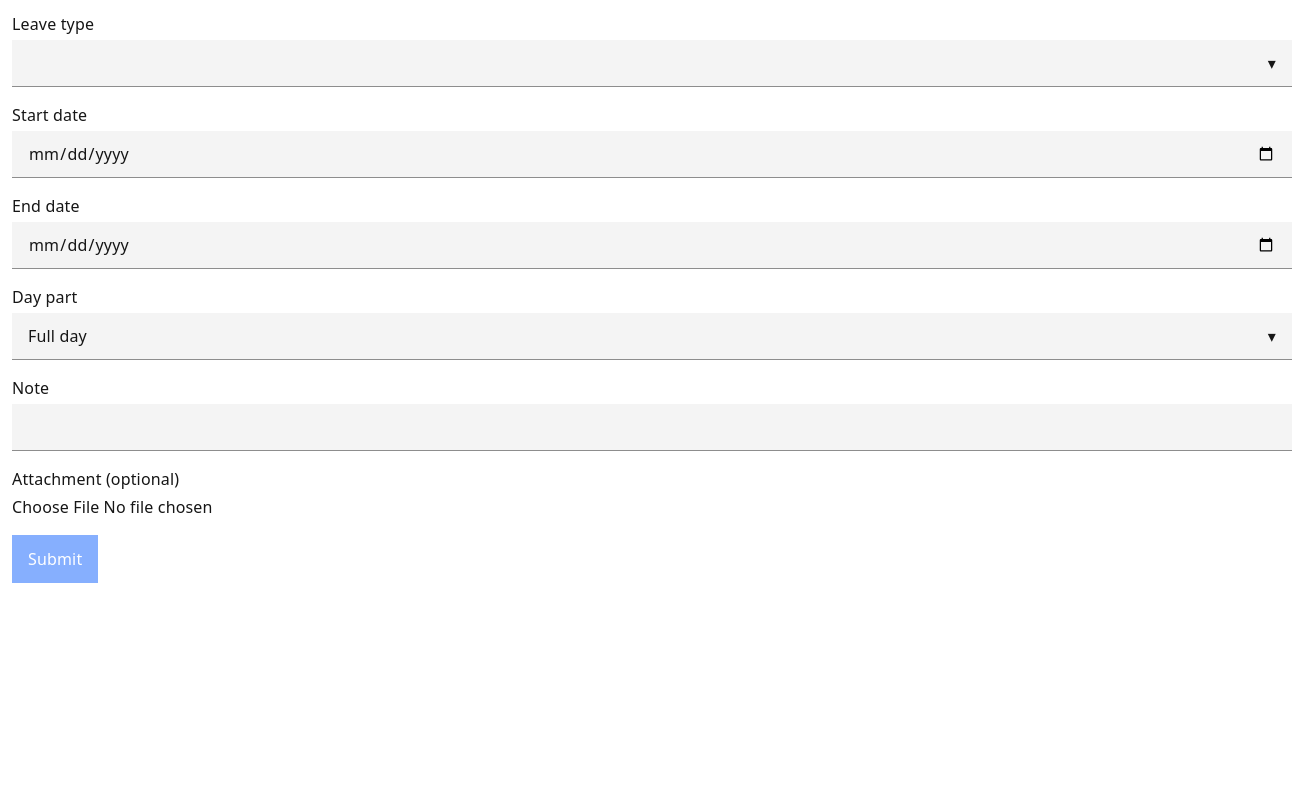
Test: LeaveRequestForm › selecting a leave type shows its current balance
Check: the text "Current balance:" is not shown
Click the dropdown named "Leave type". click: (1272, 63)
box: [12,40,1292,87]
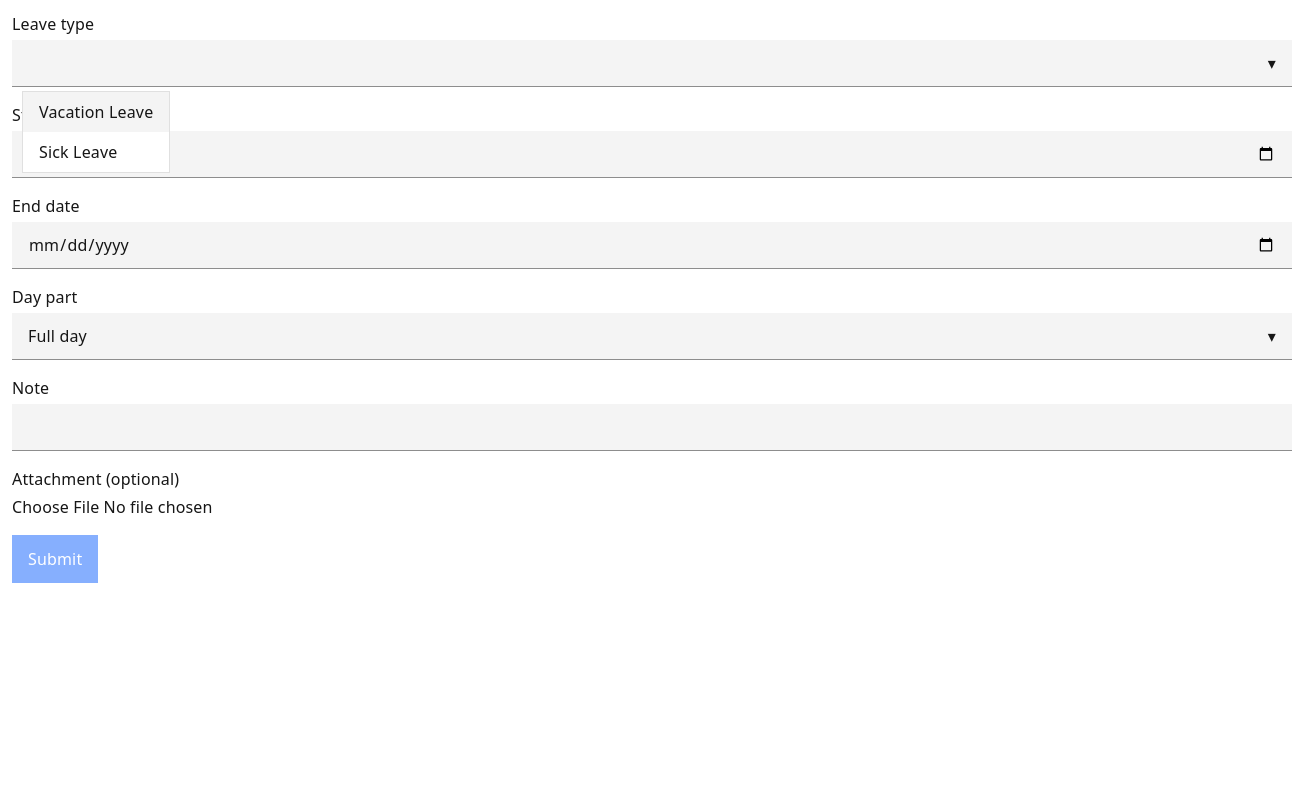
Click the option "Sick Leave". click: (78, 152)
box: [39,141,117,163]
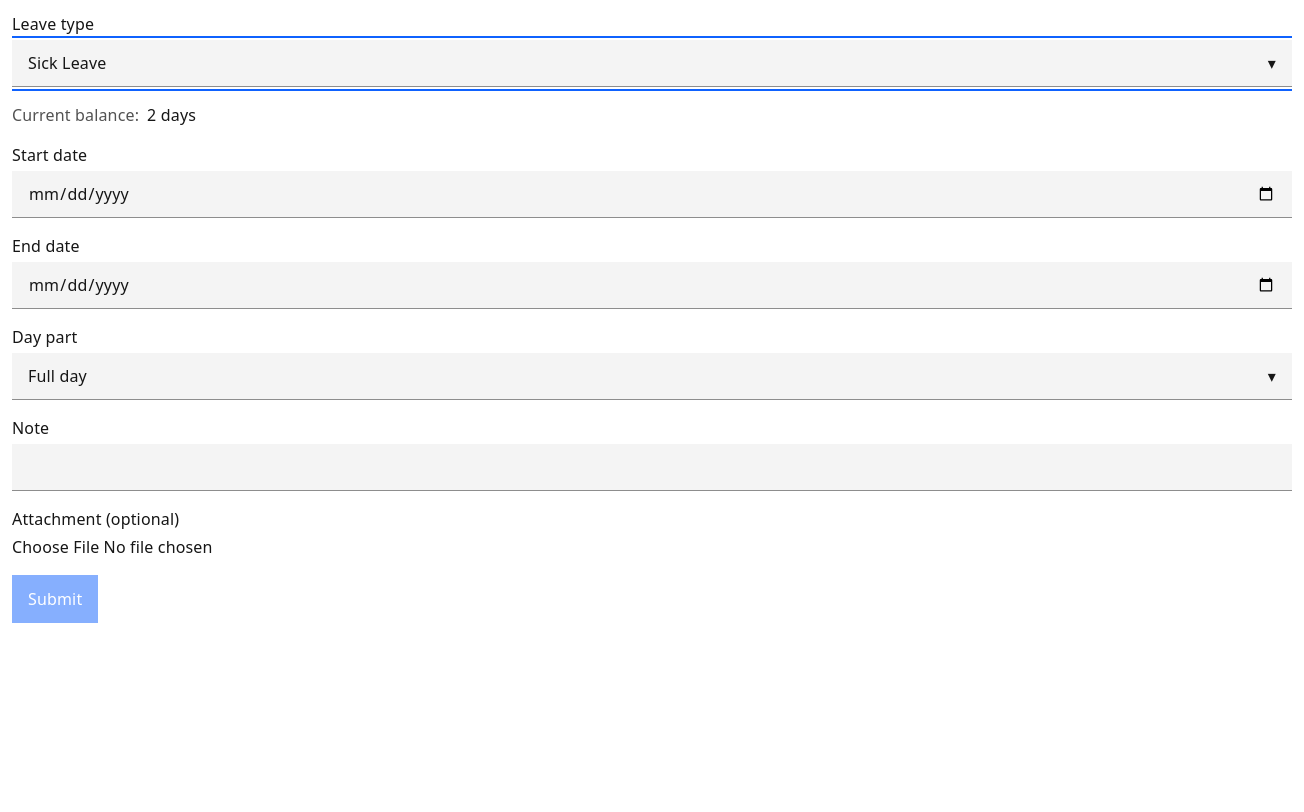
Check: the text "Current balance:" is shown, box [12,103,139,127]
Check: the text "2 days" is shown, box [147,103,196,127]
